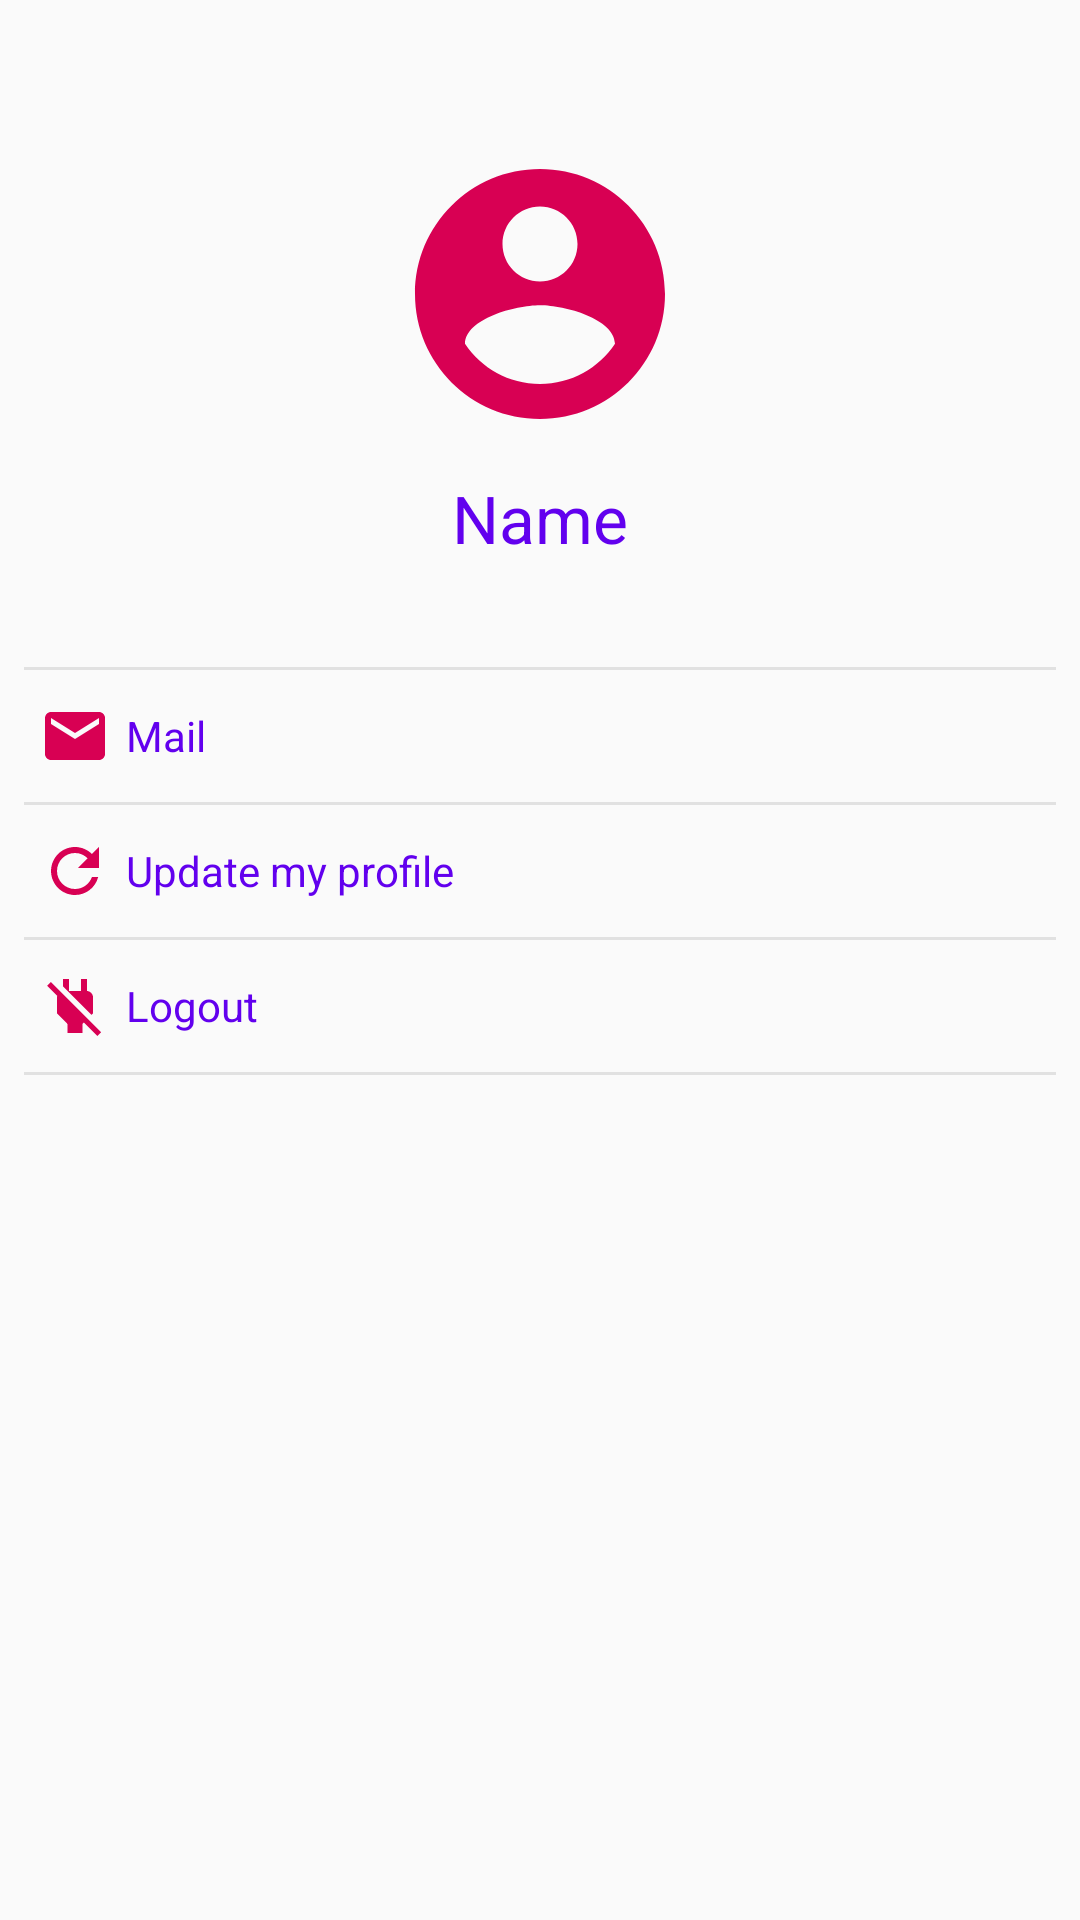

Icons on this 1080px×1920px Android screen, each with the point to tap as [x,y]:
profile account: [540,294]
